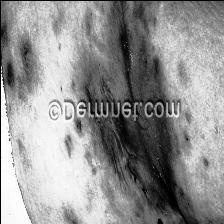Non-Cancerous Skin Condition: (88, 123, 139, 186), (5, 39, 38, 92)
